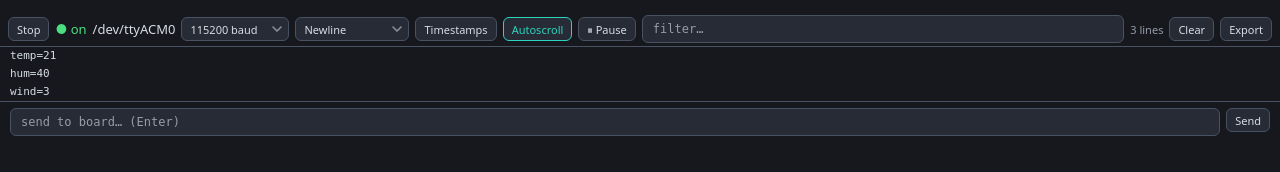
it: SerialMonitor log › counts lines, and counts matches while filtering
The width and height of the screenshot is (1280, 172).
Expected: the text with class "serial-count" reads "3 lines", [1130,22,1163,36]
Type "temp" into the field named "Filter lines" at (883, 29), box [642,15,1124,43]
Wait 150 ms
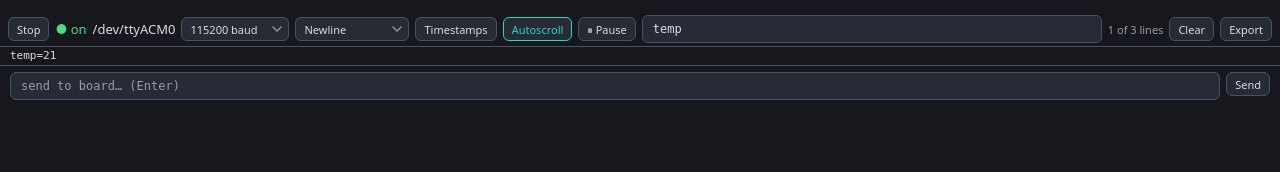
Now the text with class "serial-count" reads "1 of 3 lines", box [1108,22,1163,36]
Now the number of elements with class "serial-row" is 1, box [10,49,56,62]
